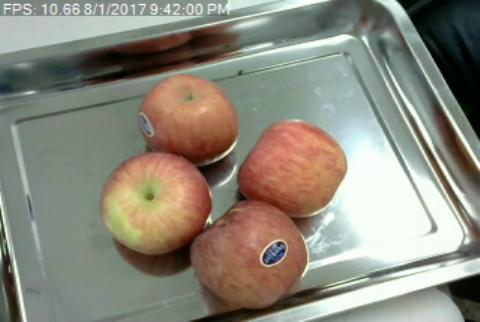apple: (193, 202, 309, 310), (103, 158, 209, 255), (241, 120, 347, 216), (139, 77, 239, 154)
